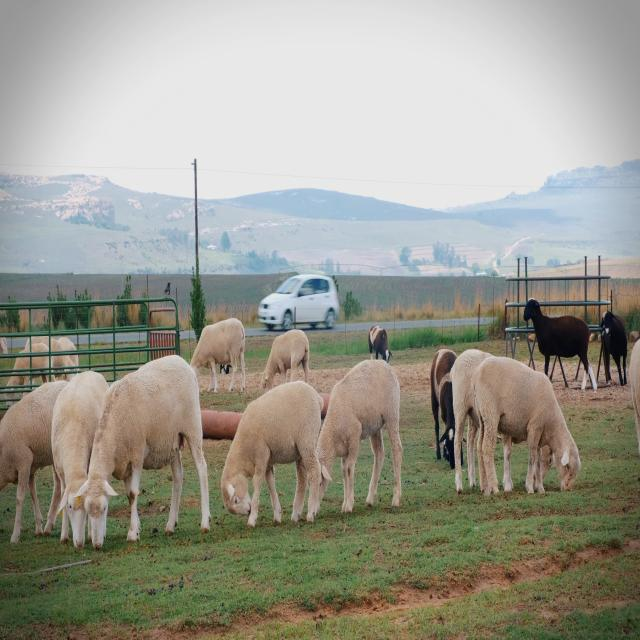sheep: (85, 350, 214, 561), (476, 334, 588, 533), (217, 356, 321, 554)
